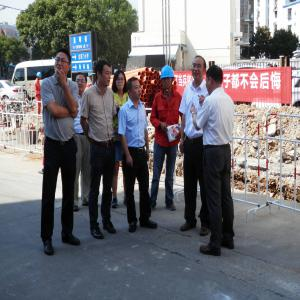blue: (160, 64, 175, 92)
none: (206, 67, 224, 95), (96, 60, 113, 89), (191, 55, 207, 83), (55, 51, 71, 78), (127, 78, 142, 102), (115, 70, 127, 94), (76, 74, 88, 94)
